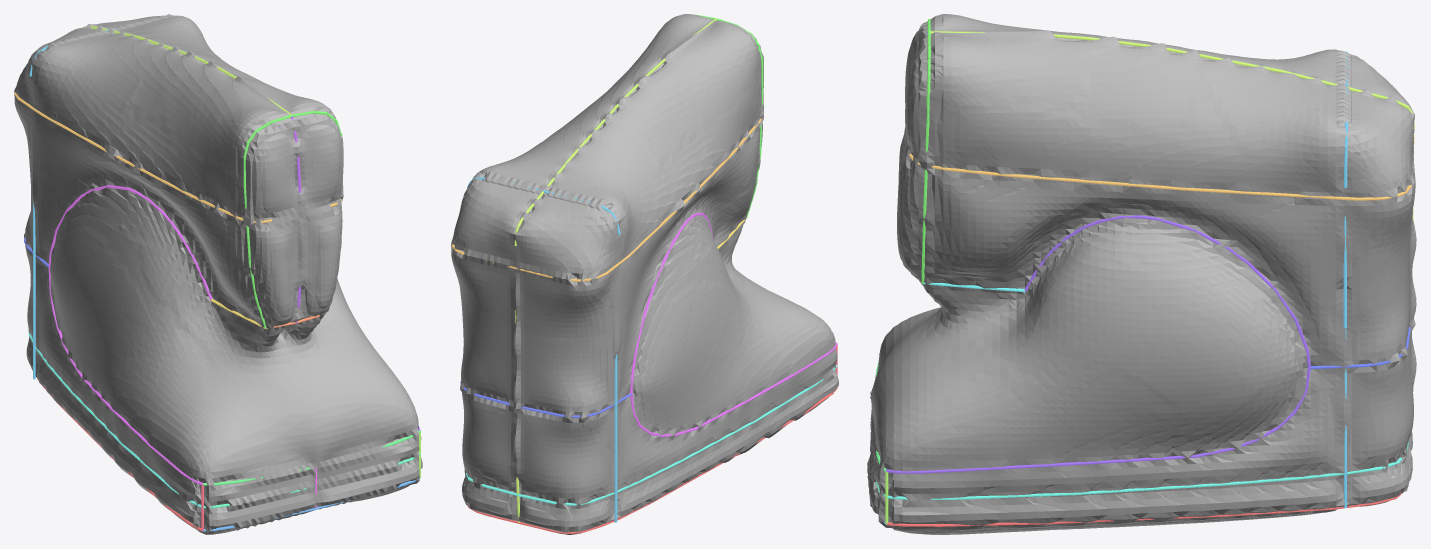
Rendered from t2f_sewing_machine.gltf.
3 renders of one model, left to right at view 1: azimuth 30°, elevation 25°; view 2: azimuth 150°, elevation 25°; view 3: azimuth 270°, elevation 25°, orthographic. The views are drawn at different scales.
Size of the model in its own units: 0.3951 by 0.6555 by 0.7024.
